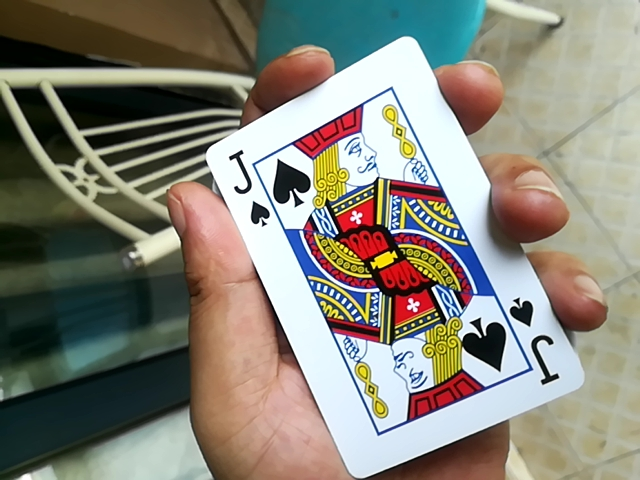ht j: (196, 39, 570, 480)
